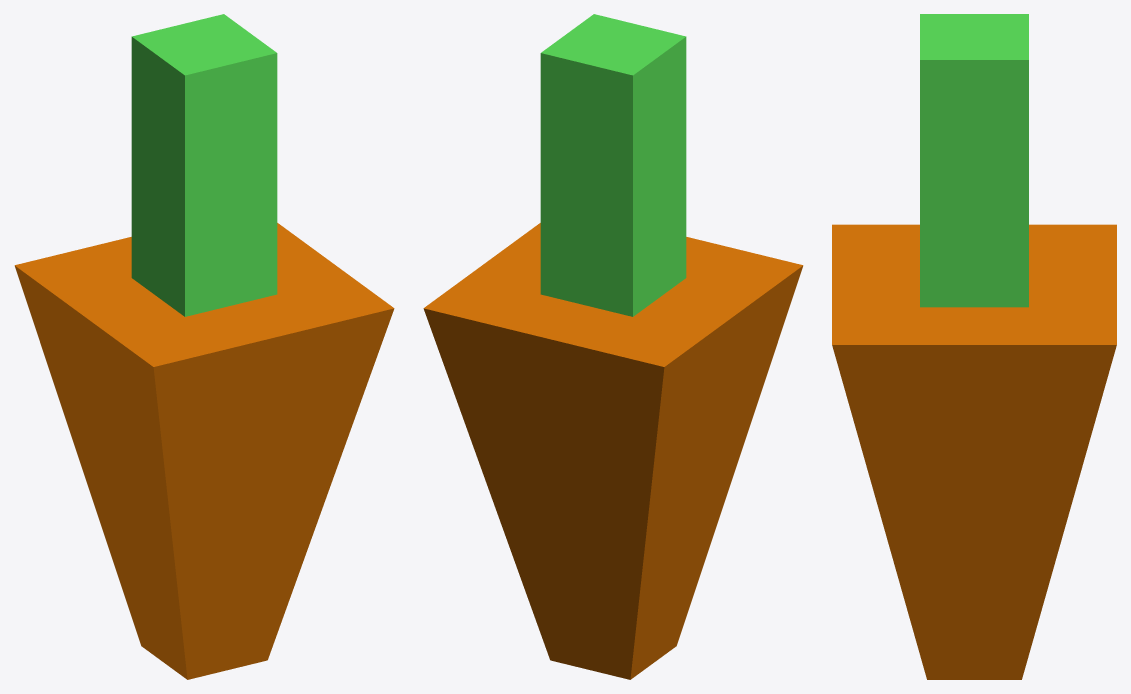
The model's file is carrot_mature.fbx.
3 renders of one model, left to right at view 1: azimuth 30°, elevation 25°; view 2: azimuth 150°, elevation 25°; view 3: azimuth 270°, elevation 25°, orthographic. The views are drawn at different scales.
Parts seen in each view (by area): view 1: carrot_mature; view 2: carrot_mature; view 3: carrot_mature.
Part boxes in pixels (x1,y1,x2,y2): carrot_mature: [14, 14, 394, 679]; carrot_mature: [423, 14, 803, 679]; carrot_mature: [832, 14, 1116, 679].
Bounding box in the file's own units: 0.5221 × 1.26 × 0.5221.
